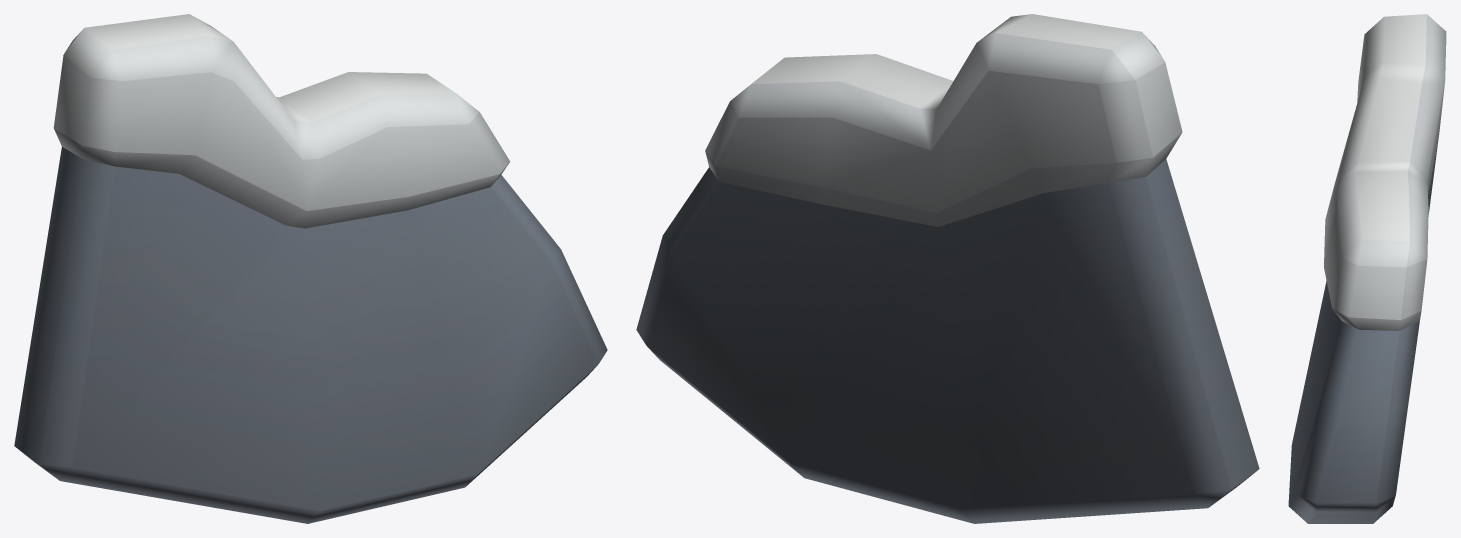
The model's file is rock_snow_010.fbx.
3 renders of one model, left to right at view 1: azimuth 30°, elevation 25°; view 2: azimuth 150°, elevation 25°; view 3: azimuth 270°, elevation 25°, orthographic. The views are drawn at different scales.
Visible parts, largest first — view 1: rock_snow_010; view 2: rock_snow_010; view 3: rock_snow_010.
Part boxes in pixels (x1,y1,x2,y2): rock_snow_010: (14, 14, 607, 523); rock_snow_010: (636, 14, 1259, 523); rock_snow_010: (1288, 14, 1446, 523).
Size of the model in its own units: 207 by 175 by 64.47.
